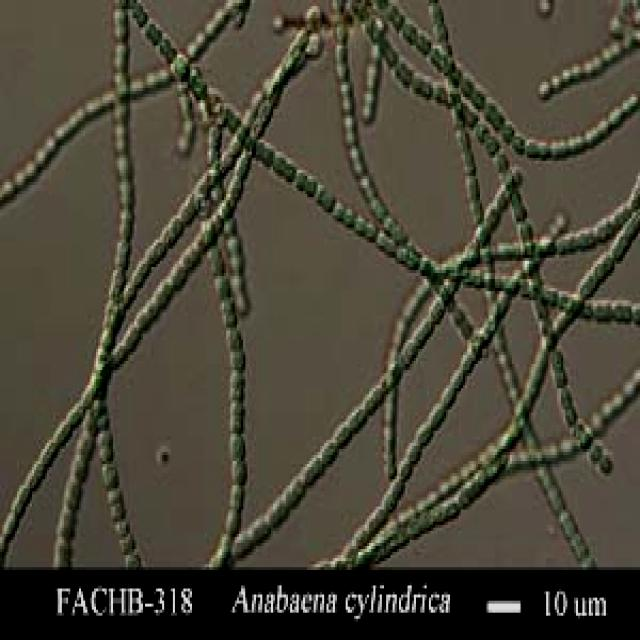Blue Green Algae: (346, 143, 367, 179), (226, 431, 250, 461), (111, 39, 134, 70), (412, 318, 435, 349), (111, 3, 130, 39), (207, 243, 226, 279), (610, 230, 632, 261), (362, 382, 380, 416), (182, 240, 200, 273), (378, 33, 397, 64), (228, 458, 252, 482), (228, 400, 246, 431), (342, 112, 358, 146), (228, 373, 246, 403), (168, 261, 188, 288), (106, 267, 124, 297), (314, 179, 332, 209), (143, 21, 162, 49), (164, 212, 183, 240), (439, 382, 458, 410), (372, 194, 391, 222), (228, 349, 250, 373), (392, 61, 414, 85), (429, 297, 446, 328), (51, 422, 70, 449), (301, 455, 320, 482), (578, 270, 597, 297), (115, 237, 132, 267), (96, 431, 113, 461), (339, 82, 356, 112), (414, 67, 431, 97), (122, 324, 140, 352), (222, 328, 247, 348), (230, 479, 246, 510), (228, 176, 246, 203), (596, 252, 614, 279), (132, 306, 154, 328), (550, 343, 566, 373), (64, 403, 83, 428), (416, 421, 435, 446), (523, 136, 542, 161), (173, 51, 188, 82), (346, 409, 364, 434), (152, 282, 170, 306), (429, 406, 446, 431), (100, 461, 120, 482), (461, 145, 476, 173), (145, 236, 164, 258), (130, 3, 147, 27), (258, 100, 275, 124), (271, 152, 288, 176), (333, 425, 350, 449), (461, 73, 476, 100), (320, 437, 335, 464), (454, 121, 470, 146), (395, 461, 414, 482), (234, 155, 250, 179), (120, 528, 136, 552), (72, 455, 88, 479), (406, 437, 422, 461), (586, 440, 602, 464), (226, 509, 241, 534), (484, 130, 499, 155), (273, 497, 288, 522), (205, 124, 222, 146), (391, 479, 404, 507), (190, 76, 205, 100), (463, 176, 480, 197), (499, 121, 516, 142), (444, 501, 461, 522), (30, 458, 43, 485), (401, 340, 414, 367), (216, 276, 230, 300), (403, 18, 416, 43), (559, 385, 572, 410), (450, 370, 465, 391), (115, 73, 128, 97), (361, 176, 374, 200), (250, 118, 262, 143), (333, 46, 348, 66), (472, 85, 486, 106), (470, 198, 484, 218), (416, 30, 429, 51), (565, 407, 578, 428), (292, 170, 305, 191), (305, 176, 318, 197), (222, 312, 239, 328), (17, 482, 32, 500), (108, 498, 122, 516), (376, 230, 390, 248), (333, 200, 343, 222), (344, 203, 354, 224)
